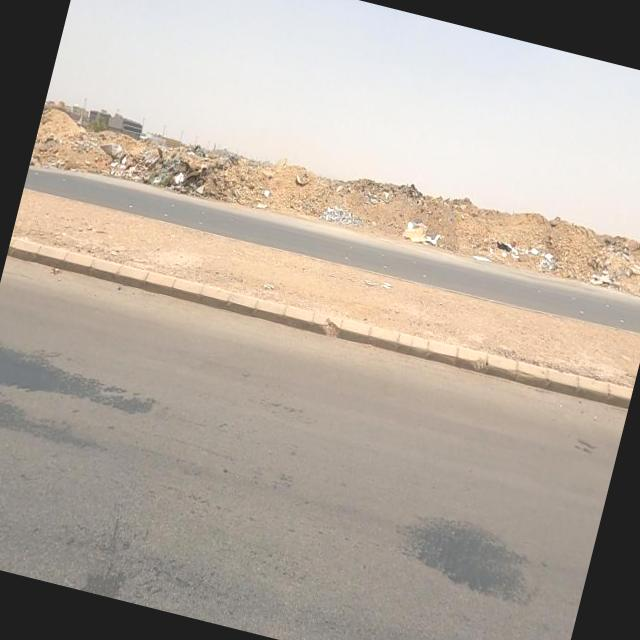debris: (109, 110, 248, 230), (367, 194, 480, 274), (70, 111, 164, 206), (488, 206, 584, 299), (292, 173, 392, 253), (467, 212, 539, 280), (238, 169, 304, 235)
